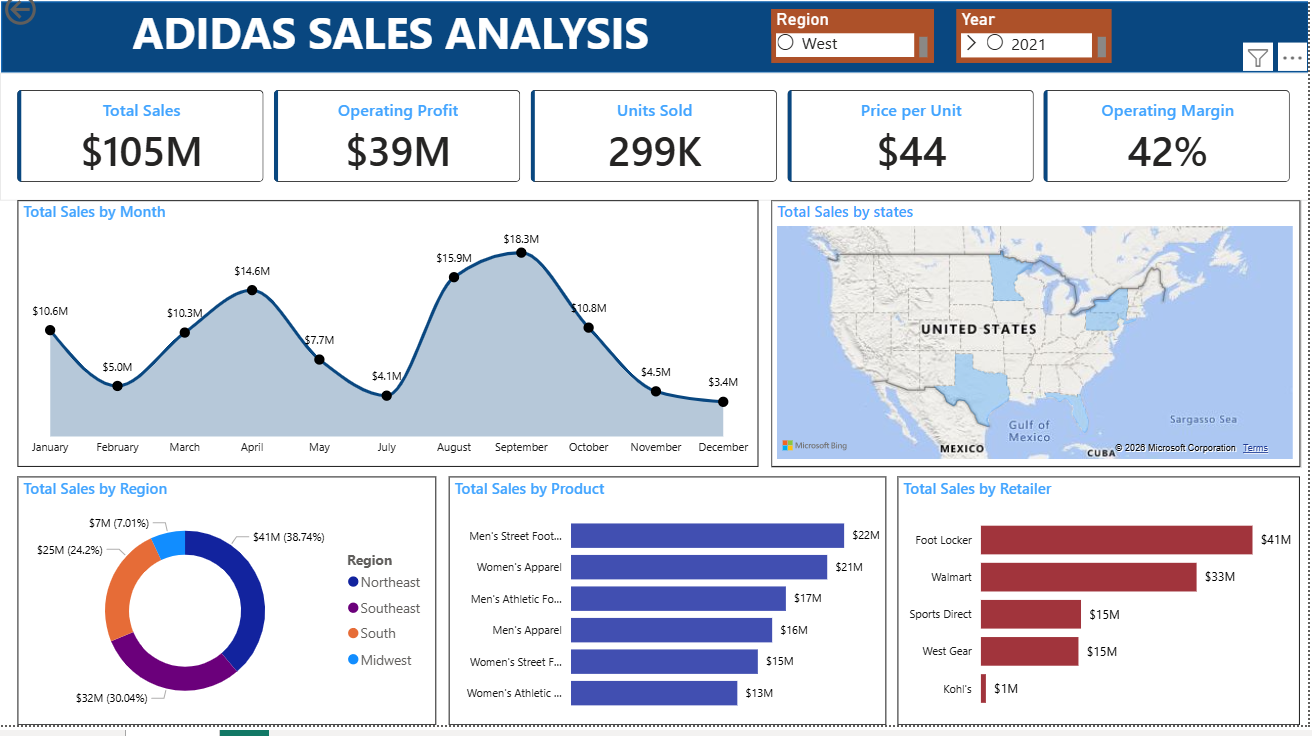

What the dashboard file says about the page in this screenshot:
{"tool":"powerbi","page":{"name":"Page 1","canvas":[1280,720],"ordinal":0},"visuals":[{"type":"shape","box":[1.2,12.2,1279.1,69.7],"z":0},{"type":"textbox","box":[124.7,7.3,577.2,74.6],"z":1000},{"type":"cardVisual","fields":{"Data":["Sum(Data Sales Adidas.Total Sales)","Sum(Data Sales Adidas.Operating Profit)","Sum(Data Sales Adidas.Units Sold)","Avg(Data Sales Adidas.Price per Unit)","Avg(Data Sales Adidas.Operating Margin)"]},"box":[0,81.9,1280.3,124.7],"z":2000},{"type":"areaChart","title":" Total Sales by Month","fields":{"Category":["Data Sales Adidas.Invoice Date.Variation.Date Hierarchy.Month"],"Y":["Sum(Data Sales Adidas.Total Sales)"]},"box":[17.1,206.7,725.1,260.5],"z":3000},{"type":"actionButton","box":[0,0,100,40],"z":4000},{"type":"filledMap","title":"Total Sales by states","fields":{"Category":["Data Sales Adidas.State"]},"box":[754.5,206.7,517.3,260.5],"z":5000},{"type":"donutChart","title":" Total Sales by Region","fields":{"Category":["Data Sales Adidas.Region"],"Y":["Sum(Data Sales Adidas.Total Sales)"]},"box":[17.1,476.9,409.6,243.3],"z":6000},{"type":"barChart","title":" Total Sales by Product","fields":{"Category":["Data Sales Adidas.Product"],"Y":["Sum(Data Sales Adidas.Total Sales)"]},"box":[439,476.9,428,243.3],"z":7000},{"type":"barChart","title":"Total Sales by Retailer","fields":{"Category":["Data Sales Adidas.Retailer"],"Y":["Sum(Data Sales Adidas.Total Sales)"]},"box":[878,476.9,393.8,243.3],"z":8000},{"type":"listSlicer","fields":{"Values":["Data Sales Adidas.Region"]},"box":[754.5,19.6,159,52.6],"z":8001},{"type":"listSlicer","fields":{"Values":["Data Sales Adidas.Invoice Date.Variation.Date Hierarchy.Year","Data Sales Adidas.Invoice Date.Variation.Date Hierarchy.Quarter","Data Sales Adidas.Invoice Date.Variation.Date Hierarchy.Month","Data Sales Adidas.Invoice Date.Variation.Date Hierarchy.Day"]},"box":[935.5,19.6,151.6,52.6],"z":8002}]}

Visuals, with their boxes in screenshot pixels (x1, y1, x2, y2), scaled from the page's 1280x720 canvas onto the 1312x736 screenshot:
shape: x1=1, y1=12, x2=1311, y2=84
textbox: x1=128, y1=7, x2=719, y2=84
cardVisual - Sum(Data Sales Adidas.Total Sales) x Sum(Data Sales Adidas.Operating Profit): x1=0, y1=84, x2=1311, y2=211
" Total Sales by Month" areaChart: x1=18, y1=211, x2=761, y2=478
actionButton: x1=0, y1=0, x2=102, y2=41
"Total Sales by states" filledMap: x1=773, y1=211, x2=1304, y2=478
" Total Sales by Region" donutChart: x1=18, y1=487, x2=437, y2=735
" Total Sales by Product" barChart: x1=450, y1=487, x2=889, y2=735
"Total Sales by Retailer" barChart: x1=900, y1=487, x2=1304, y2=735
listSlicer - Data Sales Adidas.Region: x1=773, y1=20, x2=936, y2=74
listSlicer - Data Sales Adidas.Invoice Date.Variation.Date Hierarchy.Year x Data Sales Adidas.Invoice Date.Variation.Date Hierarchy.Quarter: x1=959, y1=20, x2=1114, y2=74
